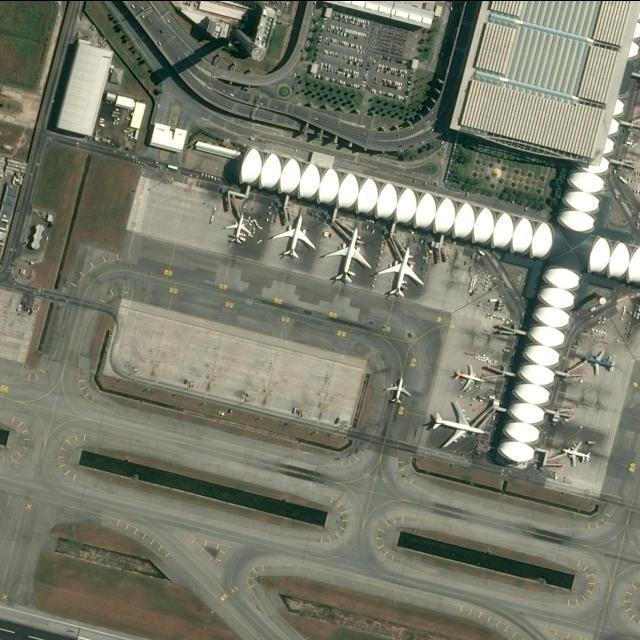Aircraft: (324, 227, 370, 285), (427, 404, 485, 450), (377, 250, 425, 299), (271, 216, 315, 262), (454, 363, 486, 393), (583, 348, 617, 376), (223, 214, 253, 245), (562, 441, 593, 469), (384, 375, 410, 405)
